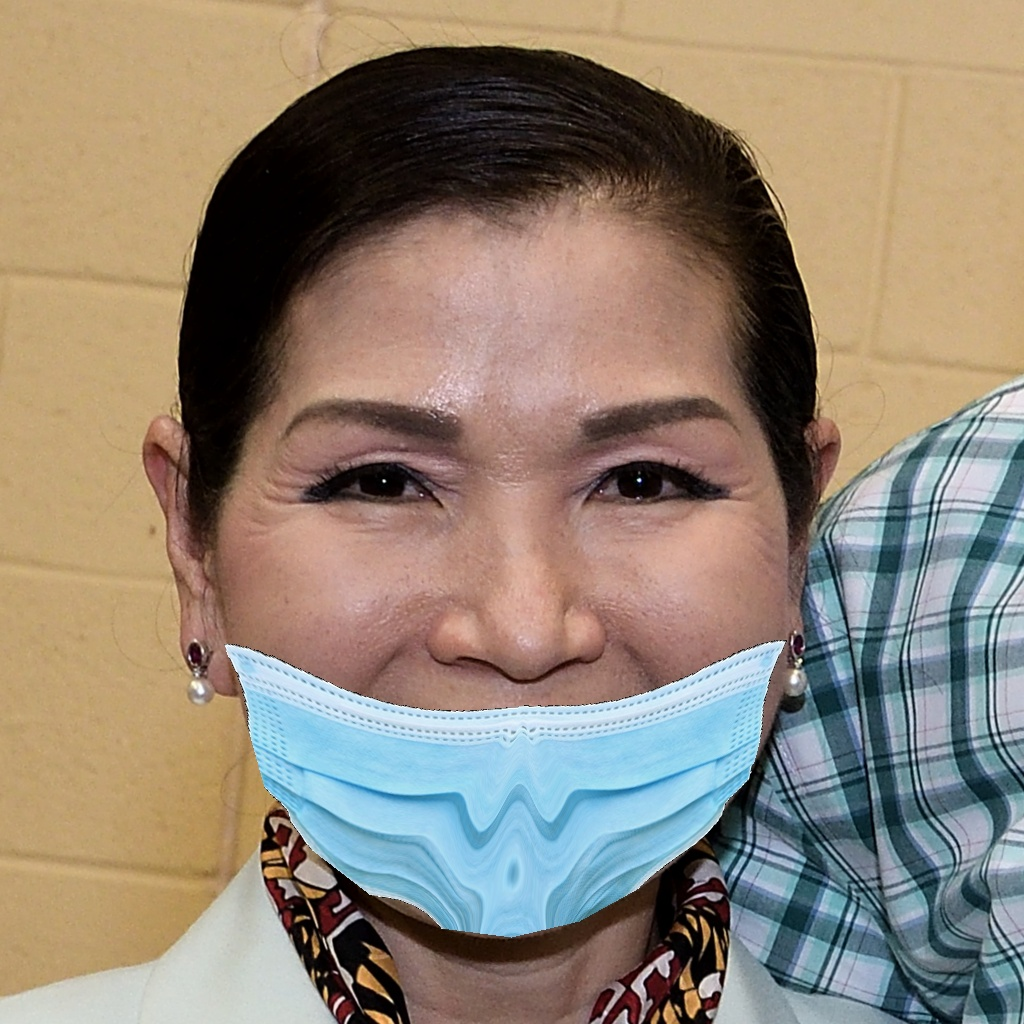mascarilla_mal_puesta: (143, 365, 833, 925)
